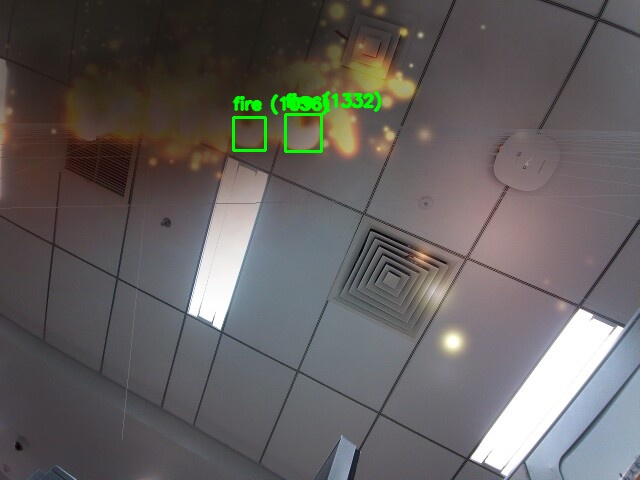fire: (285, 114, 321, 151), (233, 117, 265, 150)
